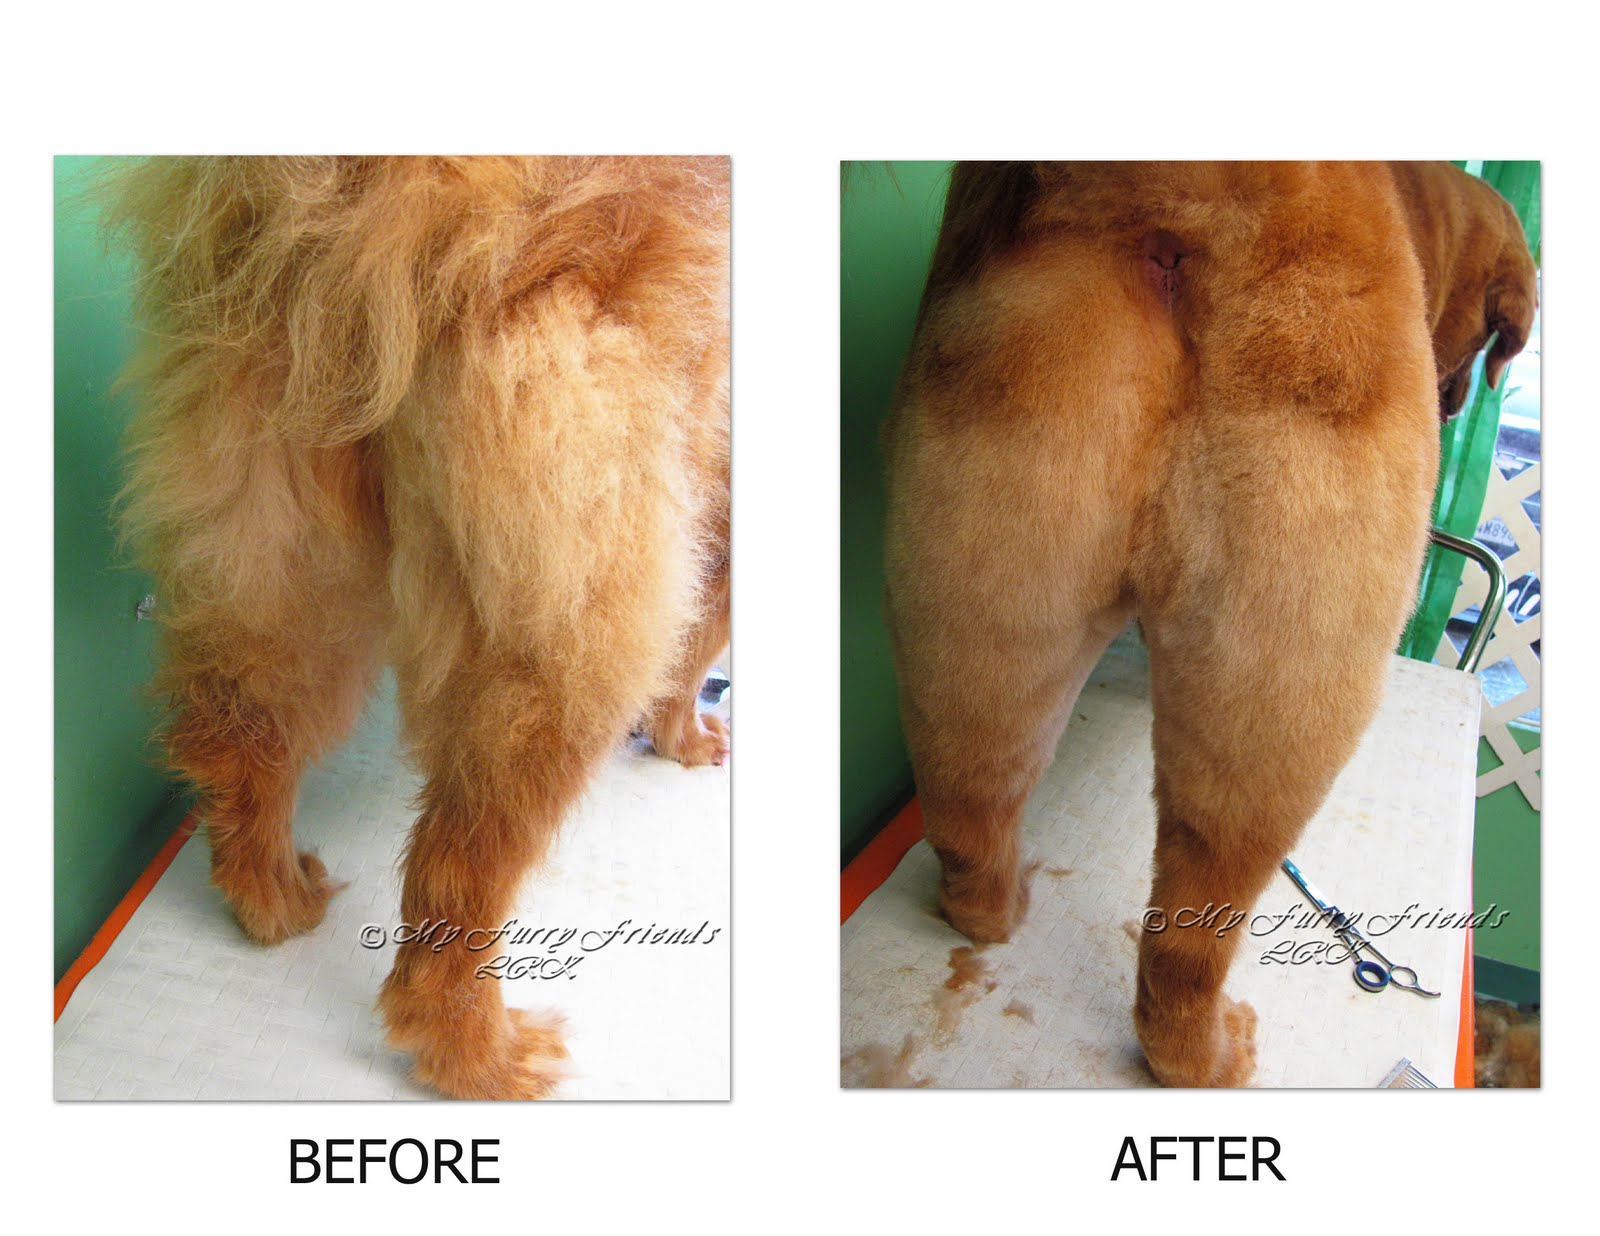dog: (875, 154, 1545, 1091), (108, 154, 728, 1105)
